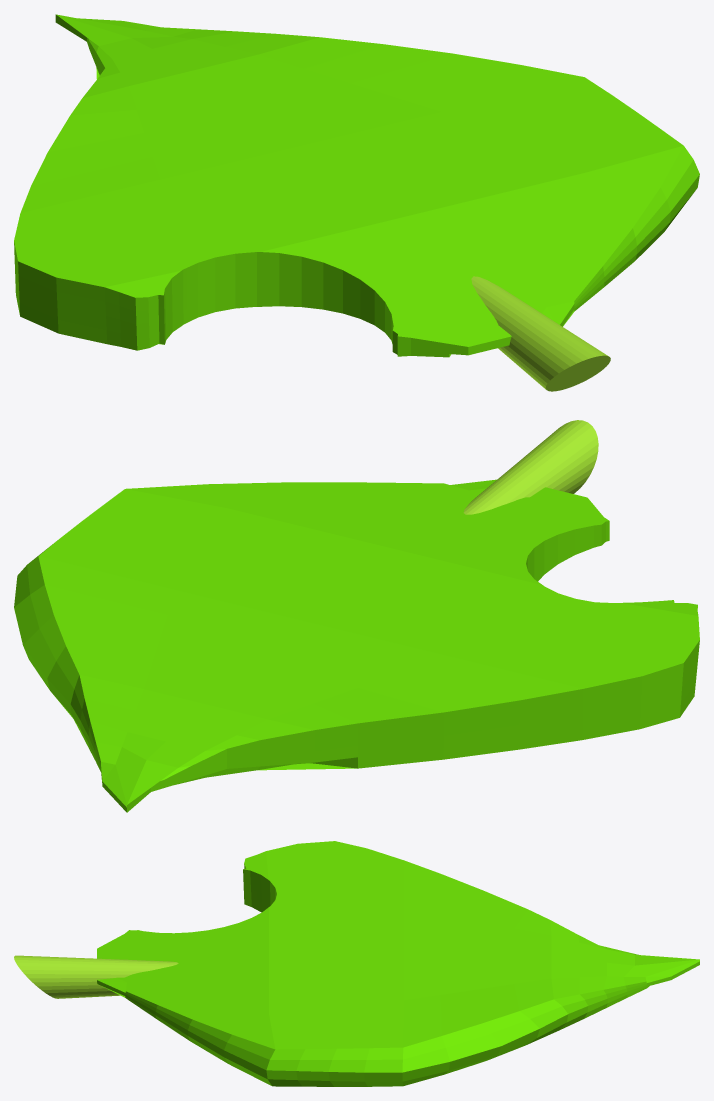
Rendered from LEAF.fbx.
3 renders of one model, top to bottom at view 1: azimuth 30°, elevation 25°; view 2: azimuth 150°, elevation 25°; view 3: azimuth 270°, elevation 25°, orthographic. The views are drawn at different scales.
Visible parts, largest first — view 1: Cube, Cylinder; view 2: Cube, Cylinder; view 3: Cube, Cylinder.
Boxes of the visible parts, <box> form: Cube: <box>14,14,699,357</box>; Cylinder: <box>471,276,610,391</box>; Cube: <box>14,479,699,812</box>; Cylinder: <box>463,420,598,514</box>; Cube: <box>97,841,699,1086</box>; Cylinder: <box>14,955,178,998</box>.
Bounding box in the file's own units: 768 × 75.77 × 1052.
